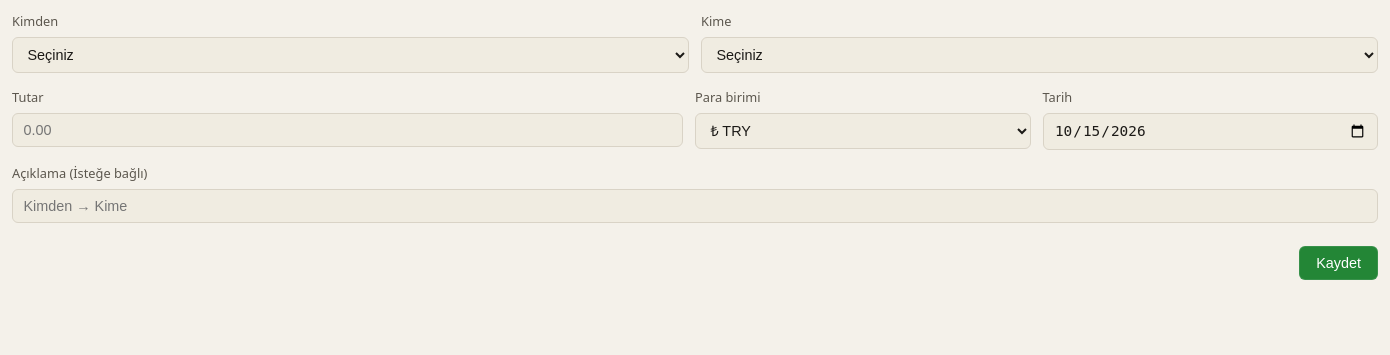
it: SahipAktarimFormu › aynı kişiyi seçince kaydetmez ve uyarır
Step 1. Select "Anne" in the dropdown with id "sa-gonderen" → {"x": 350, "y": 55}, box [12,37,689,73]
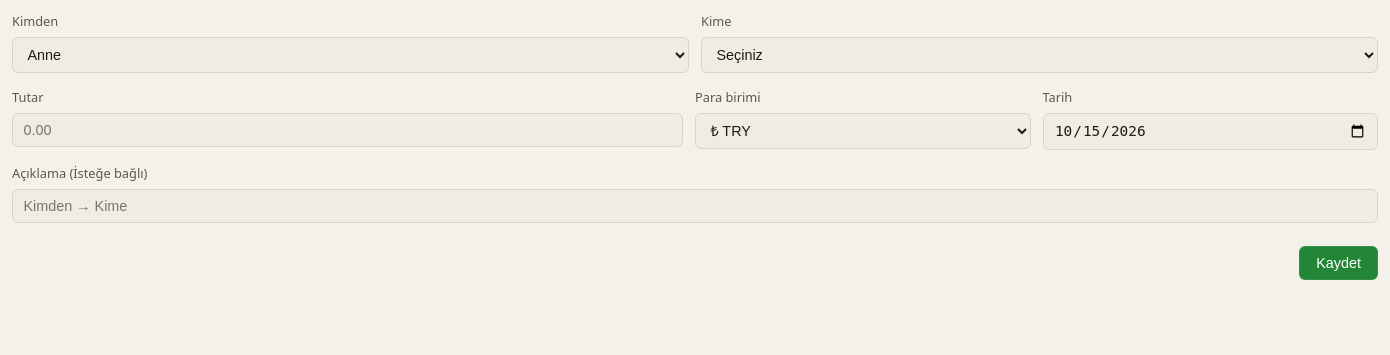
Step 2. Select "Anne" in the dropdown with id "sa-alan" → {"x": 1040, "y": 55}, box [701,37,1378,73]
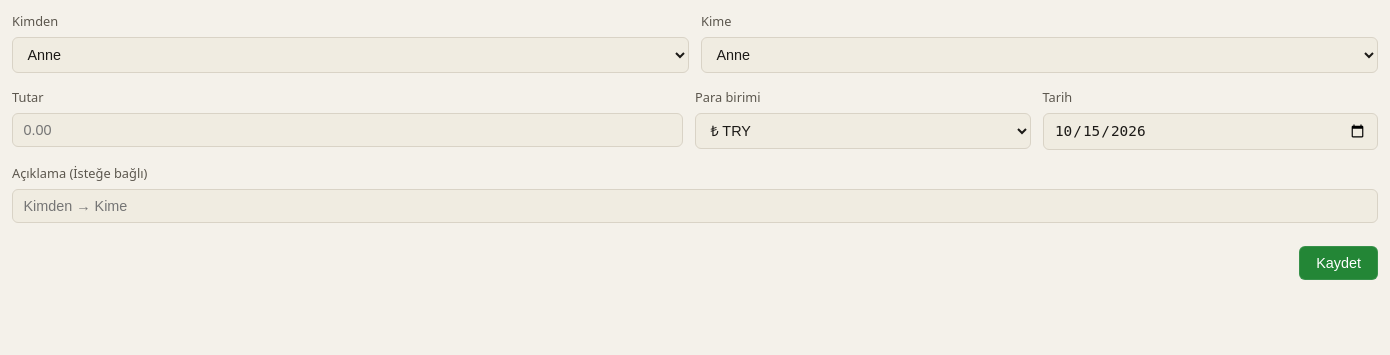
Step 3. Type "100" into the number field with id "sa-tutar" → {"x": 348, "y": 130}, box [12,113,683,147]
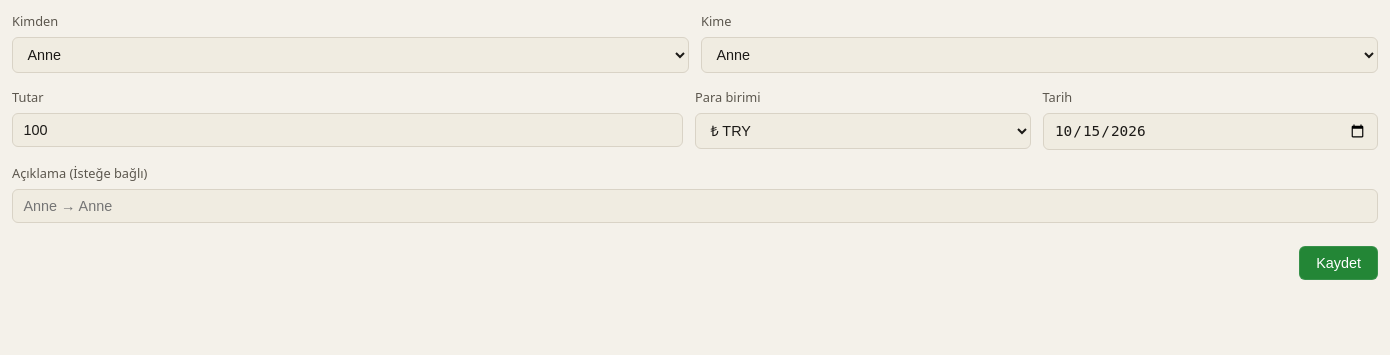
Step 4. Click the button "Kaydet" → {"x": 1339, "y": 263}, box [1299,246,1378,280]
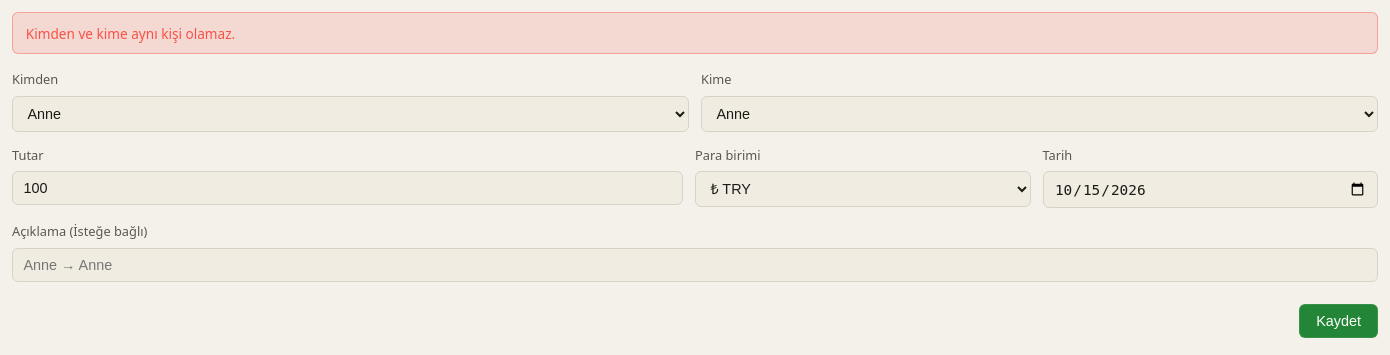
Expected: the text "aynı kişi" is shown, [26,24,235,43]
